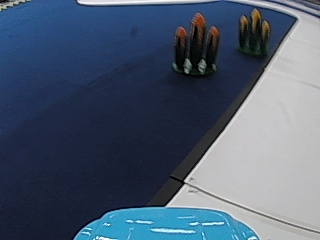corn: (171, 13, 220, 77), (236, 6, 270, 57)
